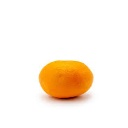orange: (39, 60, 94, 99)
